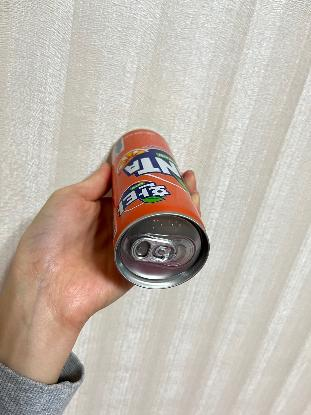Can: (107, 125, 214, 295)
